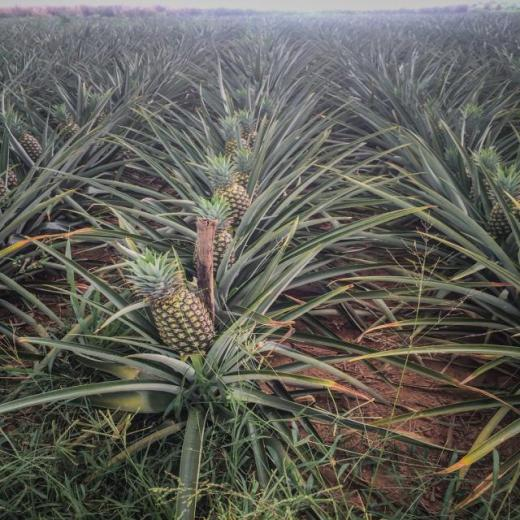Mango: (124, 236, 222, 349), (184, 192, 237, 278), (200, 149, 253, 221), (0, 102, 43, 160), (489, 166, 520, 239), (468, 143, 504, 204), (43, 100, 83, 142), (221, 114, 250, 170), (230, 108, 258, 144), (0, 150, 19, 188)
